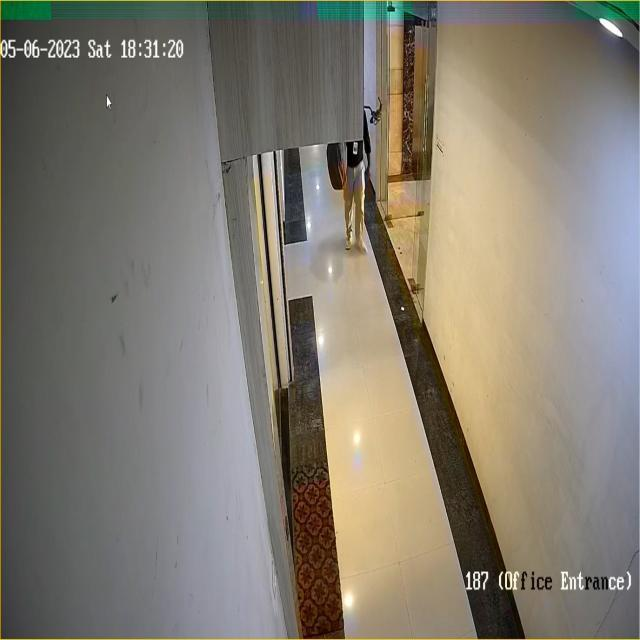gunny_bag: (326, 142, 346, 196)
